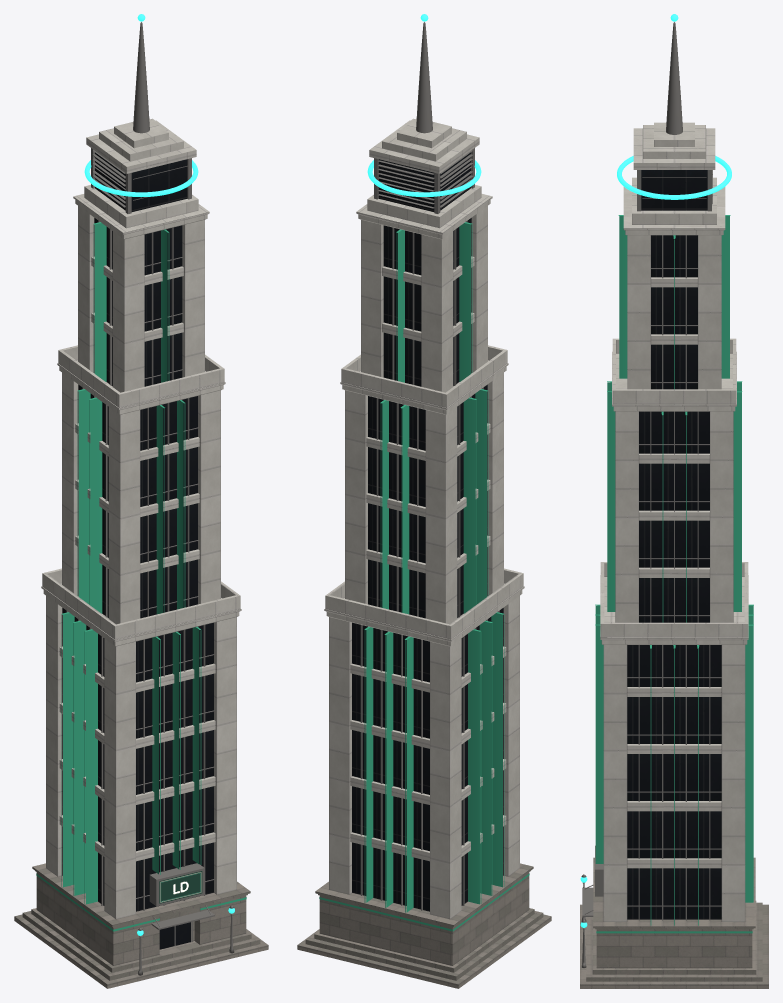
Rendered from s26-lyka-dao.glb.
The picture shows the model from 3 angles, left to right: view 1: azimuth 30°, elevation 25°; view 2: azimuth 150°, elevation 25°; view 3: azimuth 270°, elevation 25°; orthographic projection.
Parts seen in each view (by area): view 1: Landmark · Lyka DAO (Series 26); view 2: Landmark · Lyka DAO (Series 26); view 3: Landmark · Lyka DAO (Series 26).
Part boxes in pixels (<box>): Landmark · Lyka DAO (Series 26): <box>14,14,268,988</box>; Landmark · Lyka DAO (Series 26): <box>297,14,551,988</box>; Landmark · Lyka DAO (Series 26): <box>580,14,768,988</box>.
Size of the model in its own units: 12 by 65.5 by 12.
Materials: 7 (4 with a texture image).
